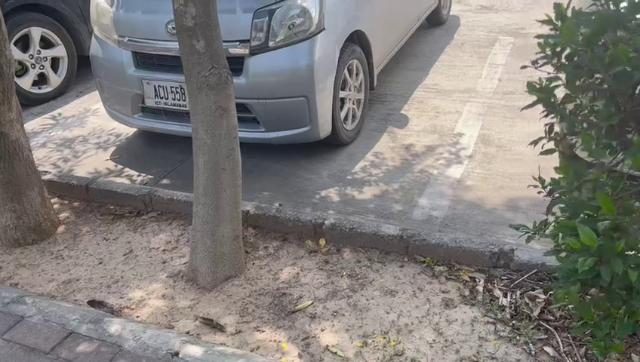plate: (139, 78, 193, 110)
